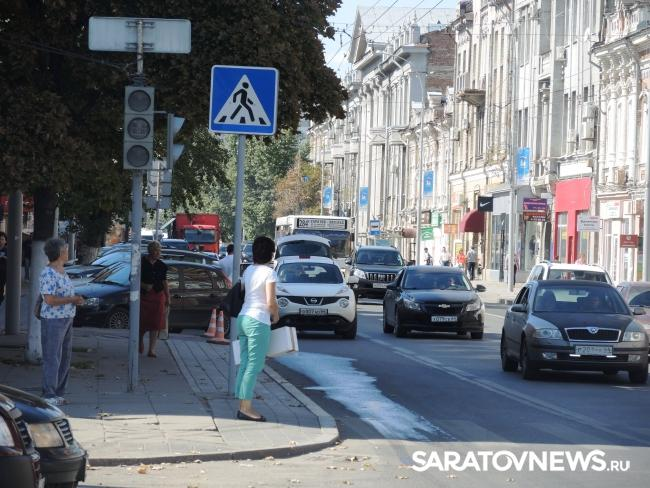off traffic light: (123, 86, 153, 167)
road_sign: (210, 67, 278, 133)
